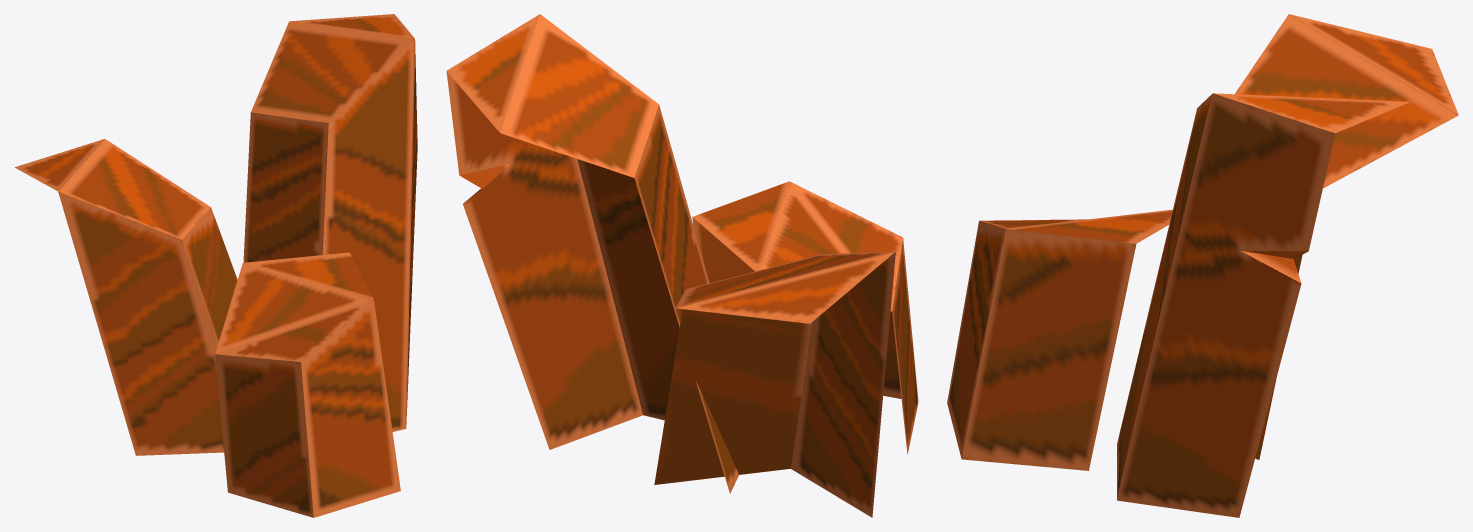
Rendered from S_MineralPoor.fbx.
3 renders of one model, left to right at view 1: azimuth 30°, elevation 25°; view 2: azimuth 150°, elevation 25°; view 3: azimuth 270°, elevation 25°, orthographic. The views are drawn at different scales.
Visible parts, largest first — view 1: S_MineralPoor; view 2: S_MineralPoor; view 3: S_MineralPoor.
Part boxes in pixels (<box>): S_MineralPoor: <box>14,14,417,517</box>; S_MineralPoor: <box>446,14,918,517</box>; S_MineralPoor: <box>947,14,1458,517</box>.
Size of the model in its own units: 85.36 by 80.47 by 85.61.
Materials: 1 (1 with a texture image).
